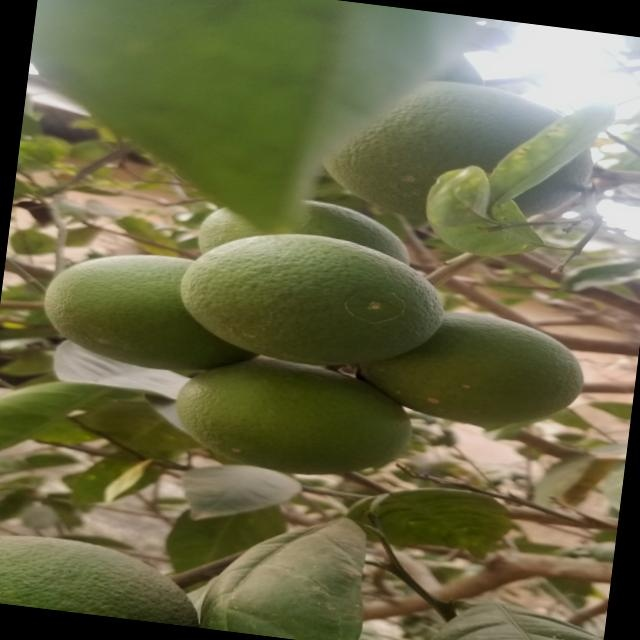agrume: (172, 215, 483, 385), (309, 65, 587, 231), (156, 343, 432, 489), (375, 300, 585, 430), (49, 242, 245, 378), (192, 183, 428, 289), (0, 522, 215, 628)
